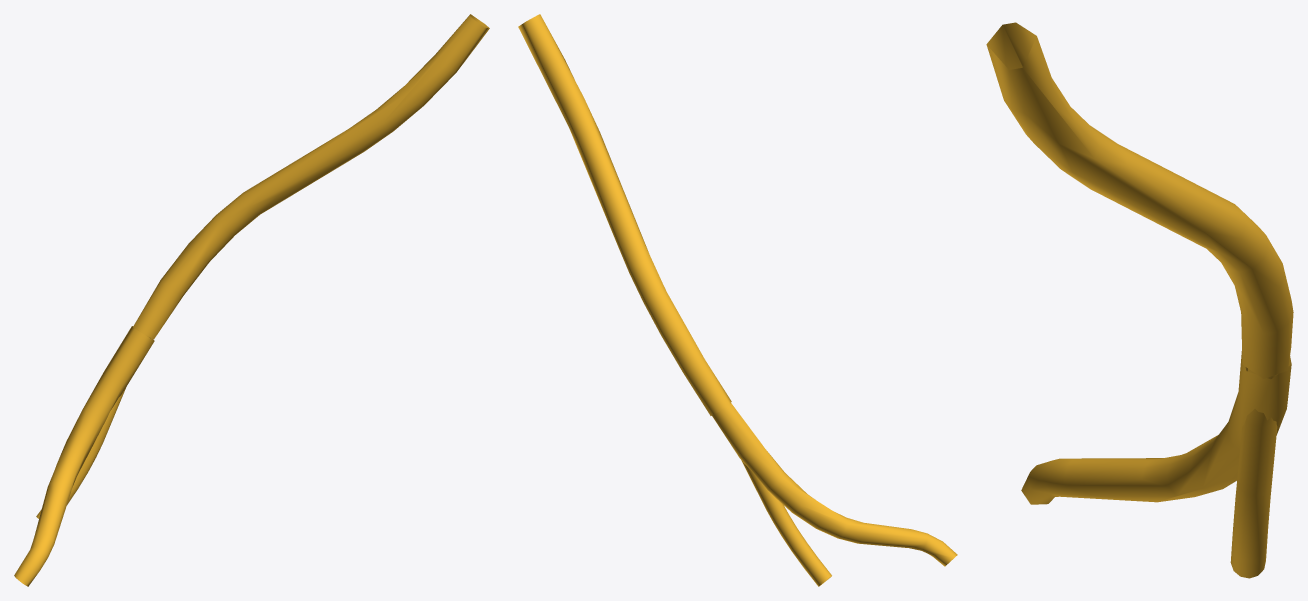
File: nervoso-superior-trunk-of-brachial-plexus-r.glb
The picture shows the model from 3 angles, left to right: view 1: azimuth 30°, elevation 25°; view 2: azimuth 150°, elevation 25°; view 3: azimuth 270°, elevation 25°; orthographic projection. The views are drawn at different scales.
Parts seen in each view (by area): view 1: Superior trunk of brachial plexus.r, Anterior division of superior trunk of brachial plexus.r, Posterior division of superior trunk of brachial plexus.r; view 2: Superior trunk of brachial plexus.r, Anterior division of superior trunk of brachial plexus.r, Posterior division of superior trunk of brachial plexus.r; view 3: Superior trunk of brachial plexus.r, Anterior division of superior trunk of brachial plexus.r, Posterior division of superior trunk of brachial plexus.r.
Part boxes in pixels (left/top/right/bottom): Superior trunk of brachial plexus.r: left=133, top=14, right=489, bottom=339; Anterior division of superior trunk of brachial plexus.r: left=14, top=326, right=154, bottom=586; Posterior division of superior trunk of brachial plexus.r: left=36, top=332, right=150, bottom=518; Superior trunk of brachial plexus.r: left=518, top=14, right=731, bottom=415; Anterior division of superior trunk of brachial plexus.r: left=712, top=403, right=957, bottom=566; Posterior division of superior trunk of brachial plexus.r: left=741, top=460, right=831, bottom=586; Superior trunk of brachial plexus.r: left=986, top=22, right=1293, bottom=378; Anterior division of superior trunk of brachial plexus.r: left=1021, top=351, right=1291, bottom=504; Posterior division of superior trunk of brachial plexus.r: left=1230, top=368, right=1277, bottom=578.
Bounding box in the file's own units: 0.0578 × 0.0555 × 0.0174.
